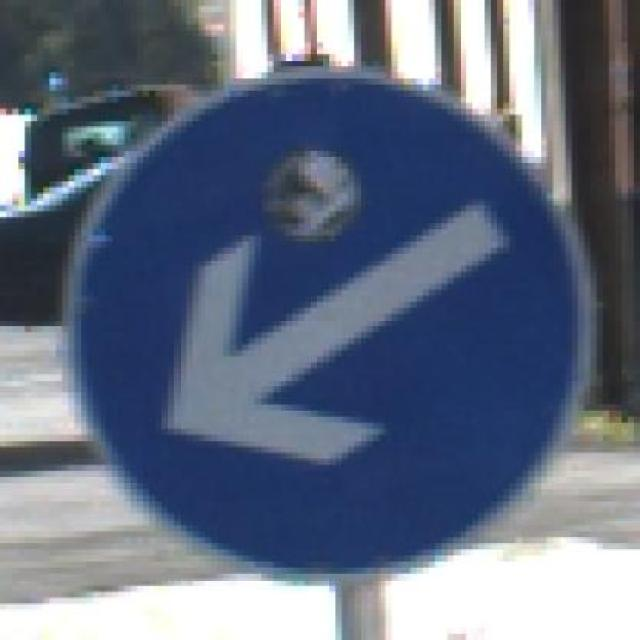Keep-Left: (62, 60, 603, 598)
